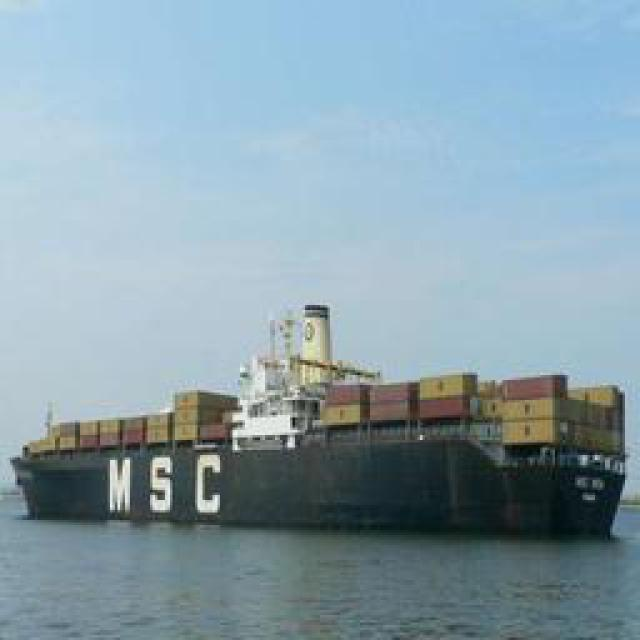Ship: (10, 319, 633, 539)
